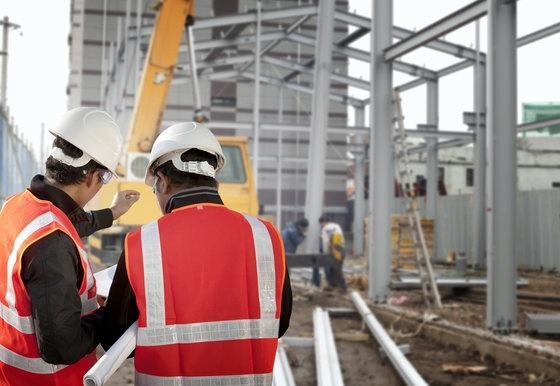helmet: (142, 119, 225, 188), (42, 104, 121, 176)
person: (122, 117, 292, 386), (3, 100, 129, 386)
vest: (127, 206, 289, 386), (5, 192, 104, 386)
